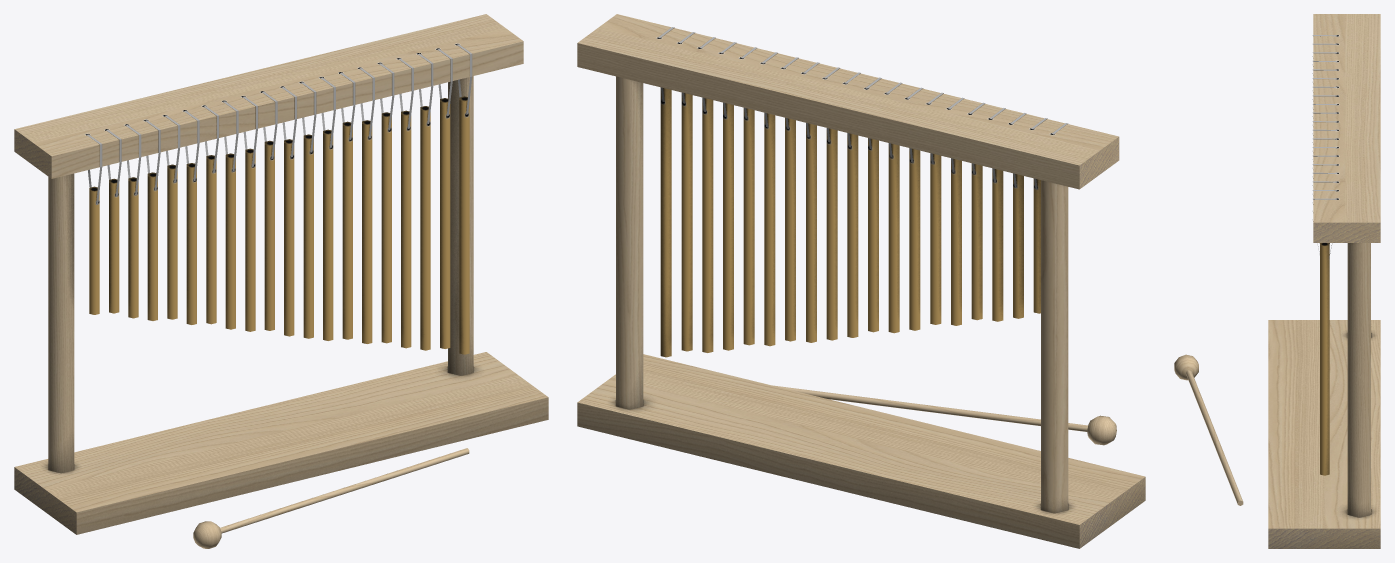
Rendered from Chimes.FBX.
The picture shows the model from 3 angles, left to right: view 1: azimuth 30°, elevation 25°; view 2: azimuth 150°, elevation 25°; view 3: azimuth 270°, elevation 25°; orthographic projection. The views are drawn at different scales.
Parts seen in each view (by area): view 1: Chimes, ChimesStick; view 2: Chimes, ChimesStick; view 3: Chimes, ChimesStick.
Boxes of the visible parts, x1,y1,x2,y2 form: Chimes: (14,14,548,534); ChimesStick: (193,448,469,548); Chimes: (577,14,1145,548); ChimesStick: (772,385,1116,445); Chimes: (1268,14,1380,548); ChimesStick: (1174,354,1243,505).
Size of the model in its own units: 43.87 by 32.09 by 18.35.
1 material, 1 textured.
